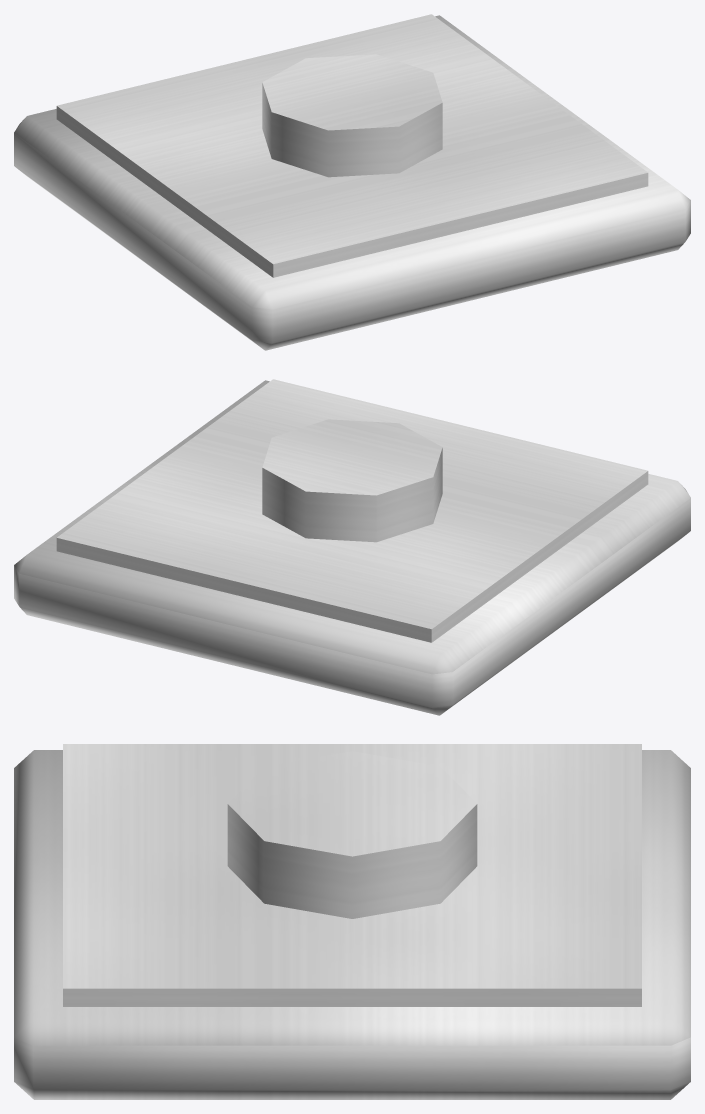
File: rocketswarm_base.obj
The picture shows the model from 3 angles, top to bottom: view 1: azimuth 30°, elevation 25°; view 2: azimuth 150°, elevation 25°; view 3: azimuth 270°, elevation 25°; orthographic projection. The views are drawn at different scales.
Visible parts, largest first — view 1: rigid_shell_001, rigid_shell_000, rigid_shell_002; view 2: rigid_shell_001, rigid_shell_000, rigid_shell_002; view 3: rigid_shell_001, rigid_shell_000, rigid_shell_002.
Boxes of the visible parts, x1,y1,x2,y2 form: rigid_shell_001: (56, 14, 648, 277); rigid_shell_000: (14, 15, 690, 350); rigid_shell_002: (262, 54, 442, 177); rigid_shell_001: (56, 379, 648, 642); rigid_shell_000: (14, 380, 690, 715); rigid_shell_002: (262, 419, 442, 542); rigid_shell_001: (63, 744, 641, 1006); rigid_shell_000: (14, 750, 690, 1099); rigid_shell_002: (227, 751, 477, 918).
Bounding box in the file's own units: 1.52 × 0.4 × 1.52.
